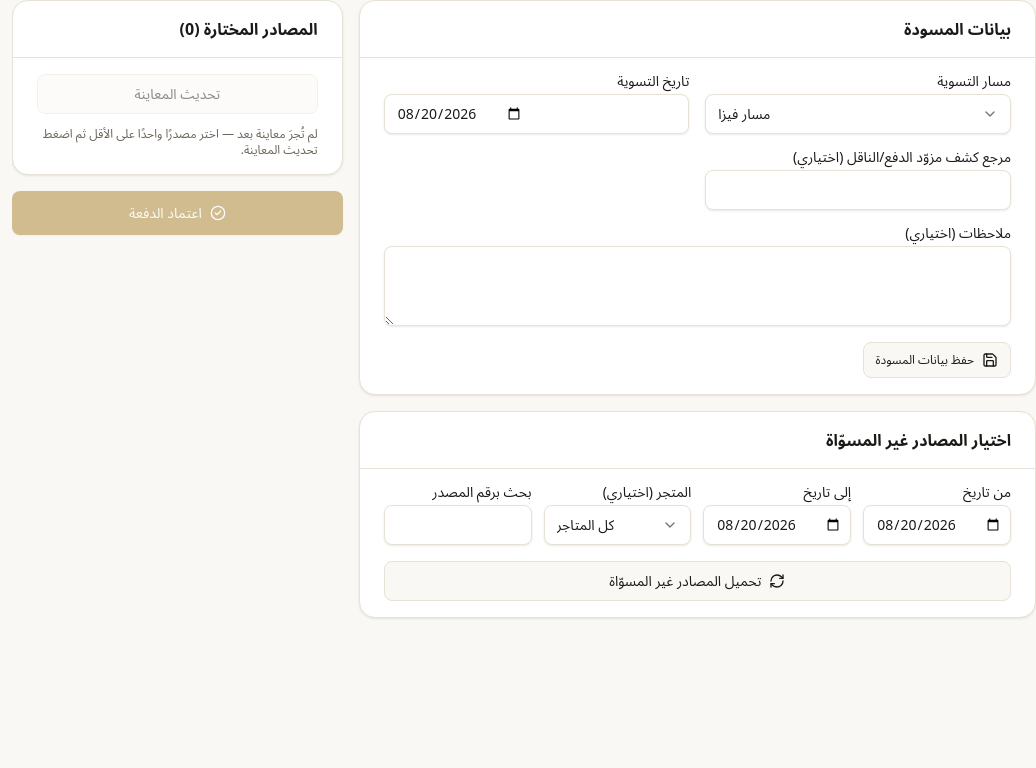
Scenario: SettlementDraftWorkspace — sign-convention pass-through (source list + preview) › selecting a source and running the preview renders the mocked totals verbatim, signed exactly as the RPC returned them
Click the button "تحميل المصادر غير المسوّاة": (697, 581) [384, 561, 1011, 601]
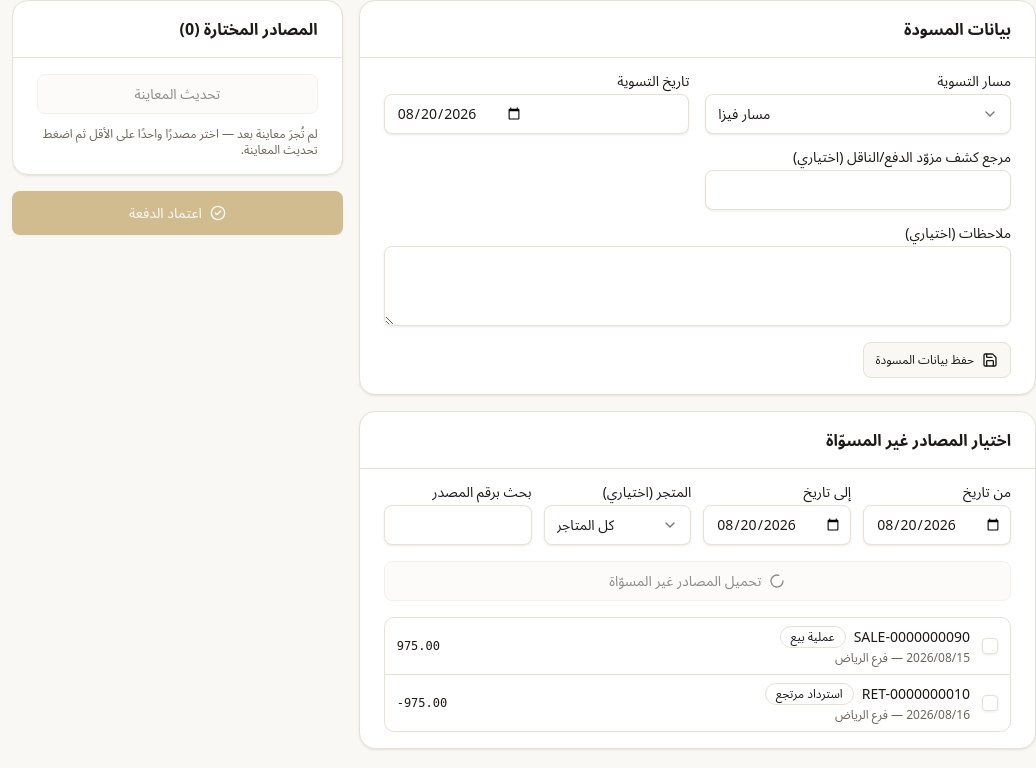
Result: the text "SALE-0000000090" is shown at [854, 627, 970, 646]
Click the checkbox next to "SALE-0000000090": (990, 646) [982, 638, 998, 654]
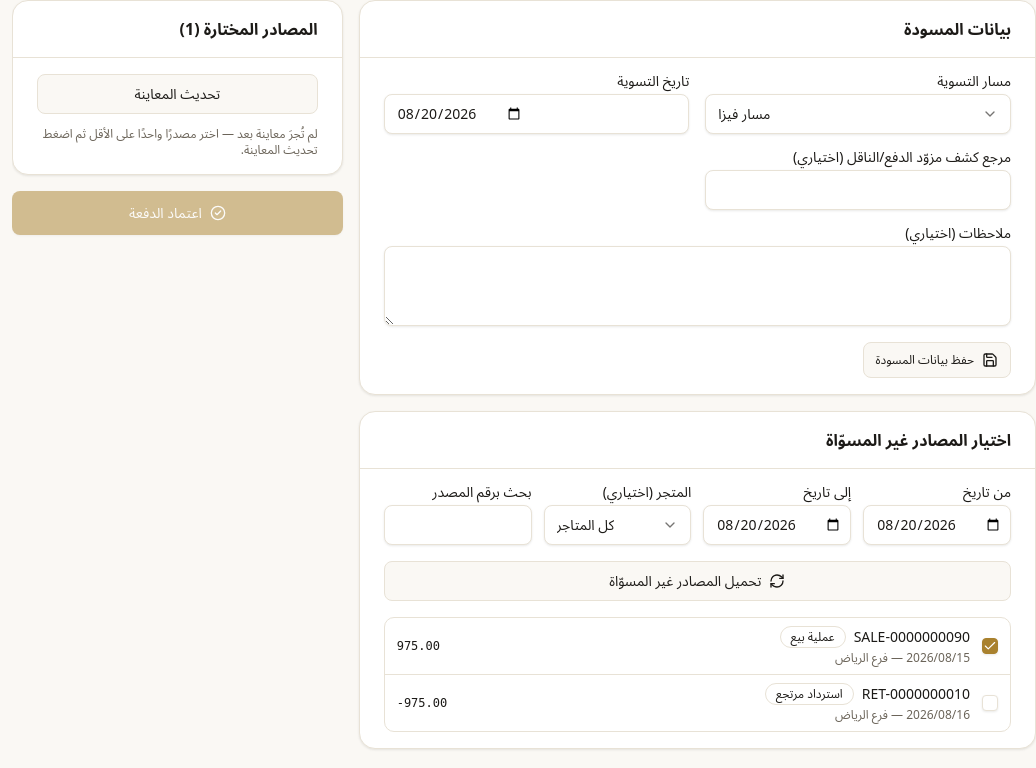
Click the checkbox next to "RET-0000000010": (990, 703) [982, 695, 998, 711]
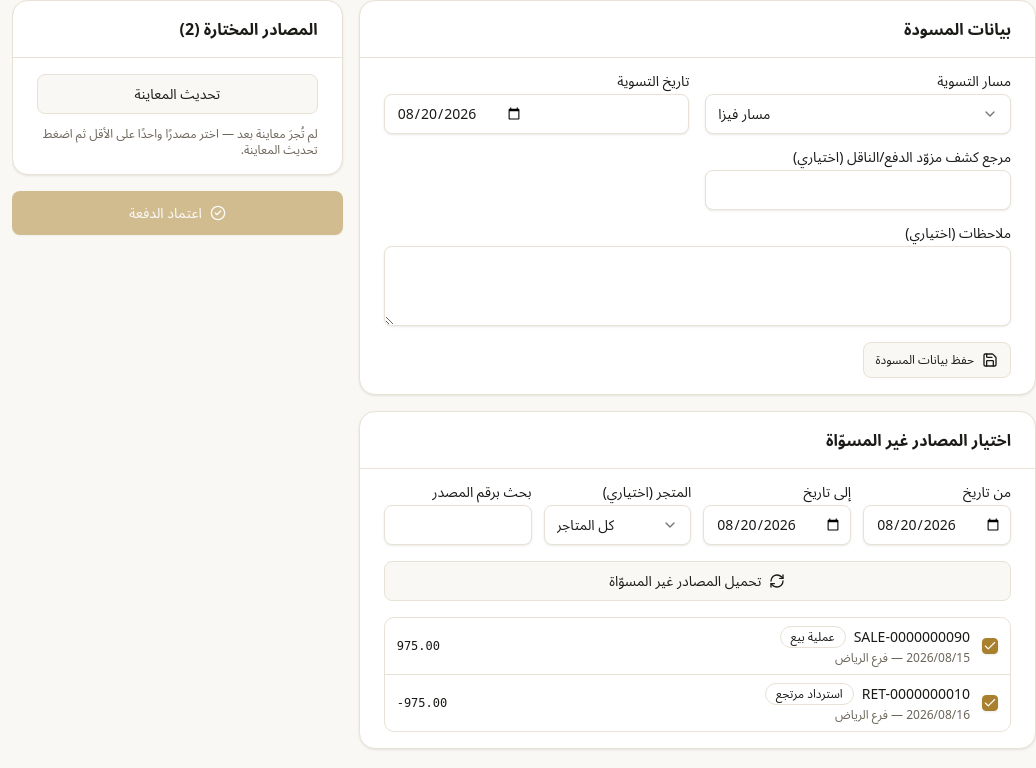
Click the button "تحديث المعاينة": (177, 94) [37, 74, 318, 114]
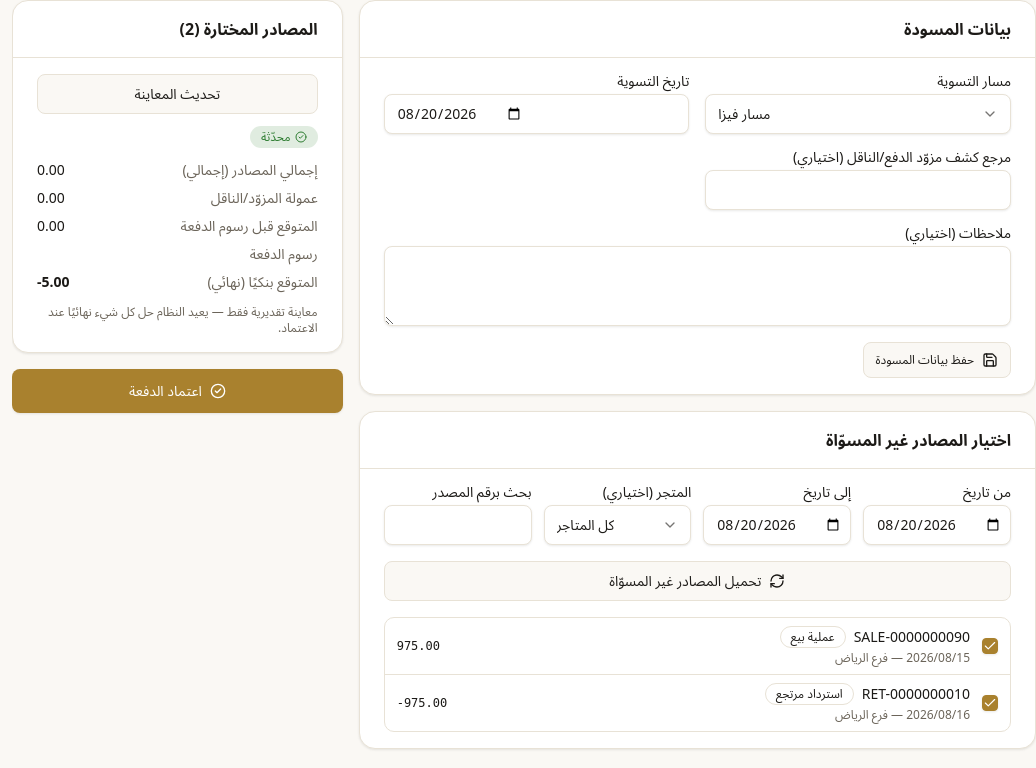
Result: the text "-5.00" is shown at [37, 272, 70, 292]
